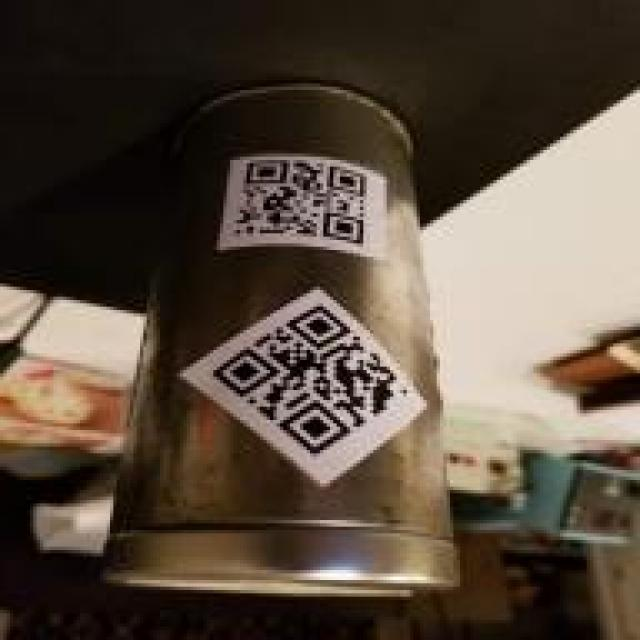QR_CODE: (200, 295, 420, 470), (220, 152, 377, 260)
